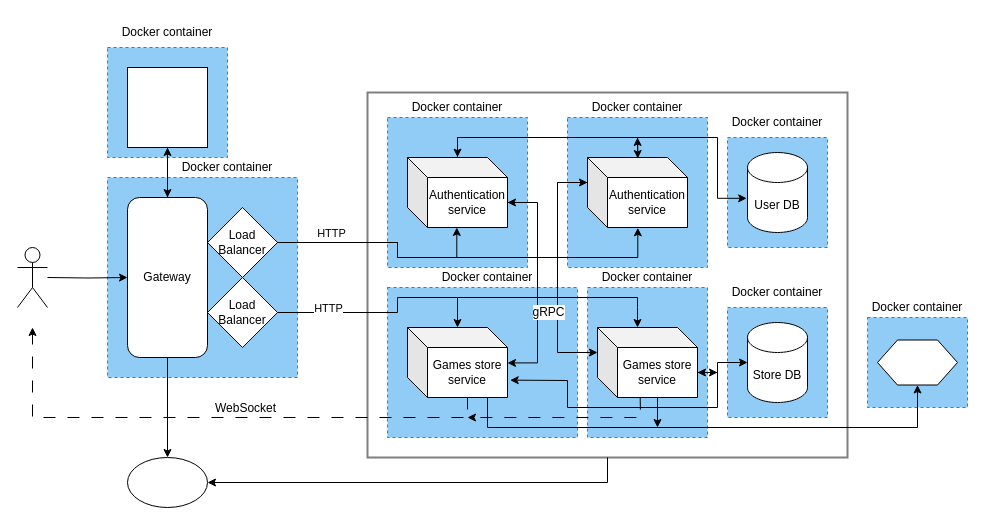
This 985x525 diagram has some shape labels left out. The box of each missing label's shape, as (x1, y1, x2, y2) in pixels:
Cache: (876, 339, 958, 385)
Client: (16, 246, 48, 308)
Logging: (126, 456, 208, 508)
Service Discovery: (126, 66, 208, 148)
